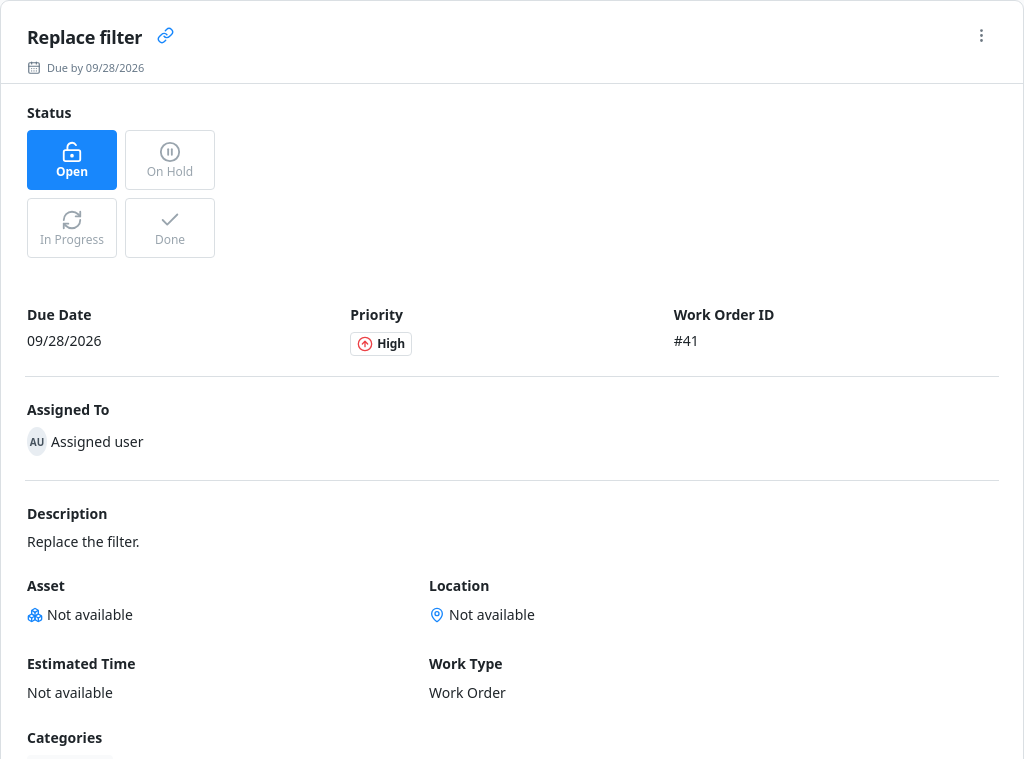
WorkOrderDetail authorization › shows Cancel instead of Skip for non-recurring Work Orders
The width and height of the screenshot is (1024, 759).
Click the button named "More work order actions" at coordinates (982, 38), box 966,22 -> 997,53
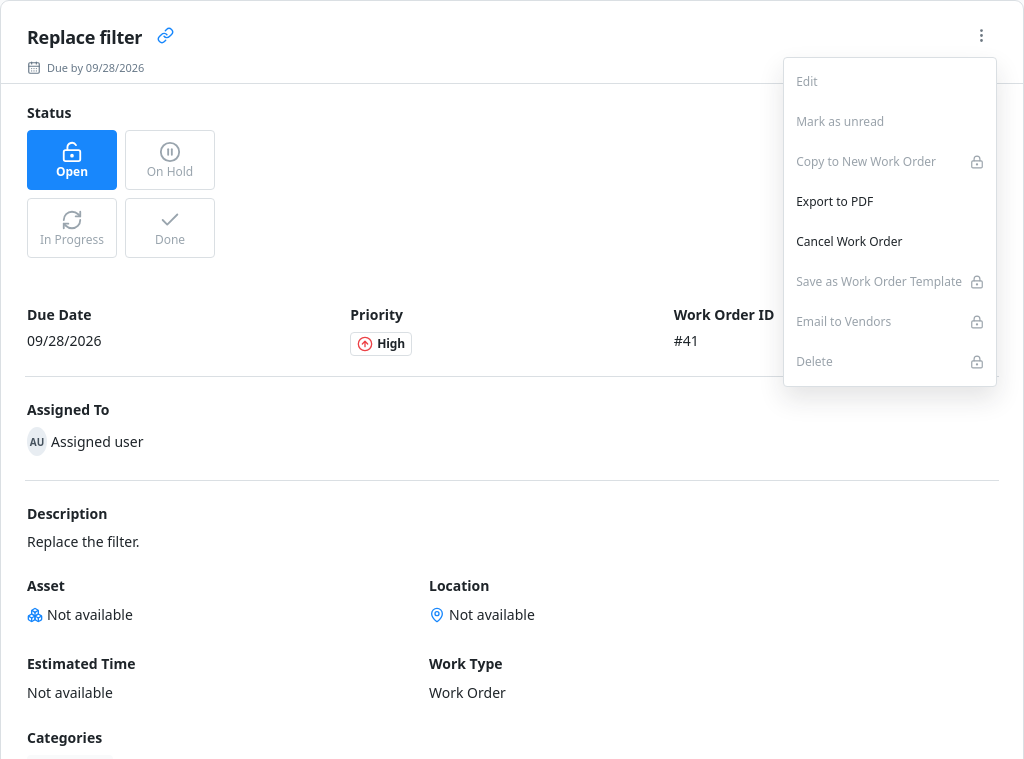
Now the menu item "Cancel Work Order" is shown, box 784,222 -> 996,262
